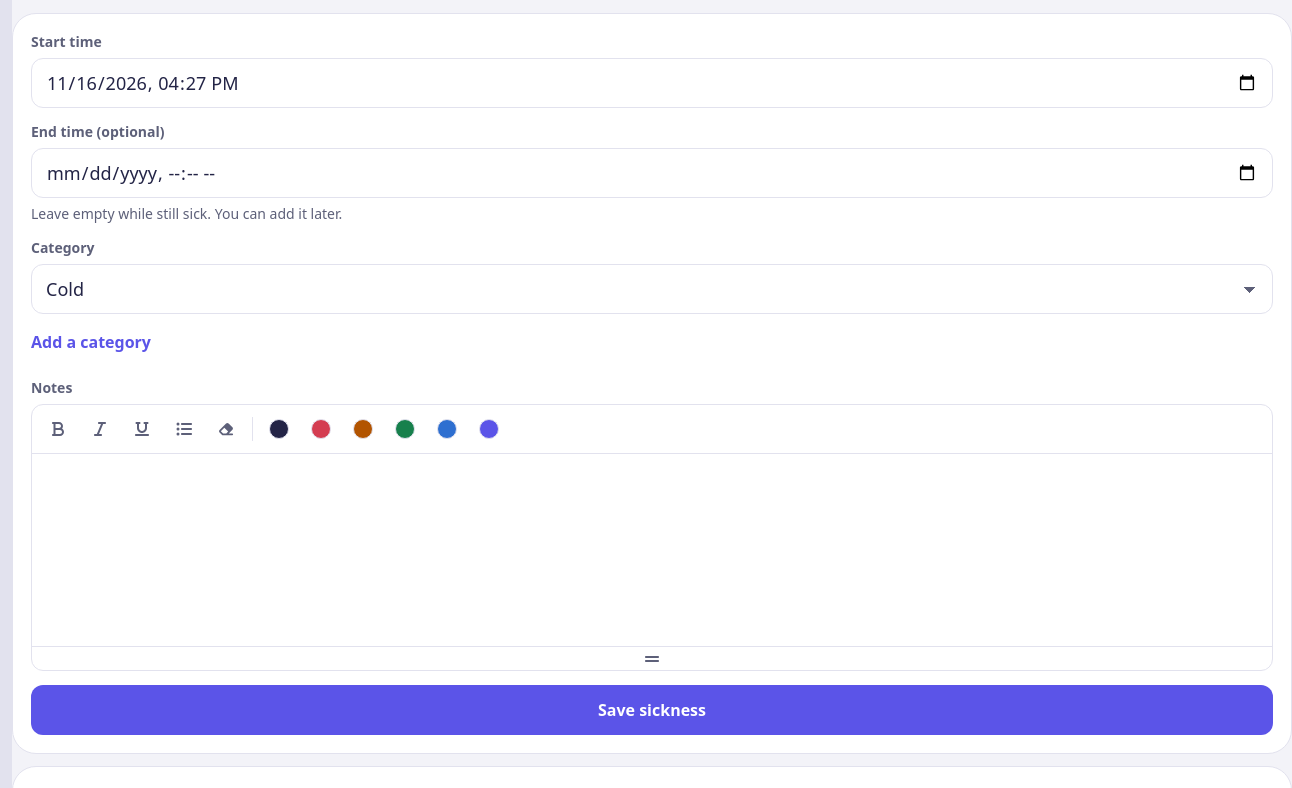
Test: SicknessLogPage › saves an ongoing sickness without an end time
Select "Fever" in the dropdown labelled "Category". click: [652, 289]
box: 31,264 -> 1273,314
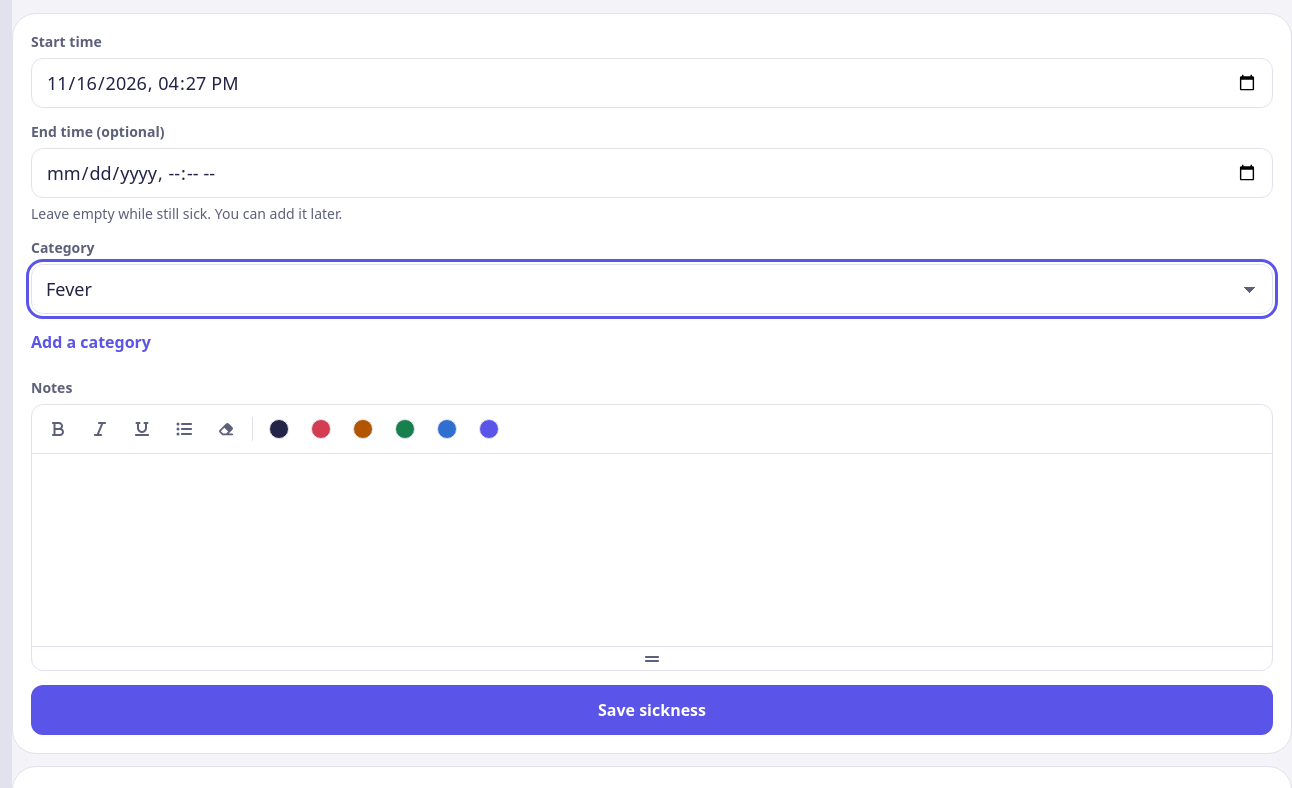
Click the button "Save sickness". click: [652, 710]
box: 31,685 -> 1273,735
(page scrolled)
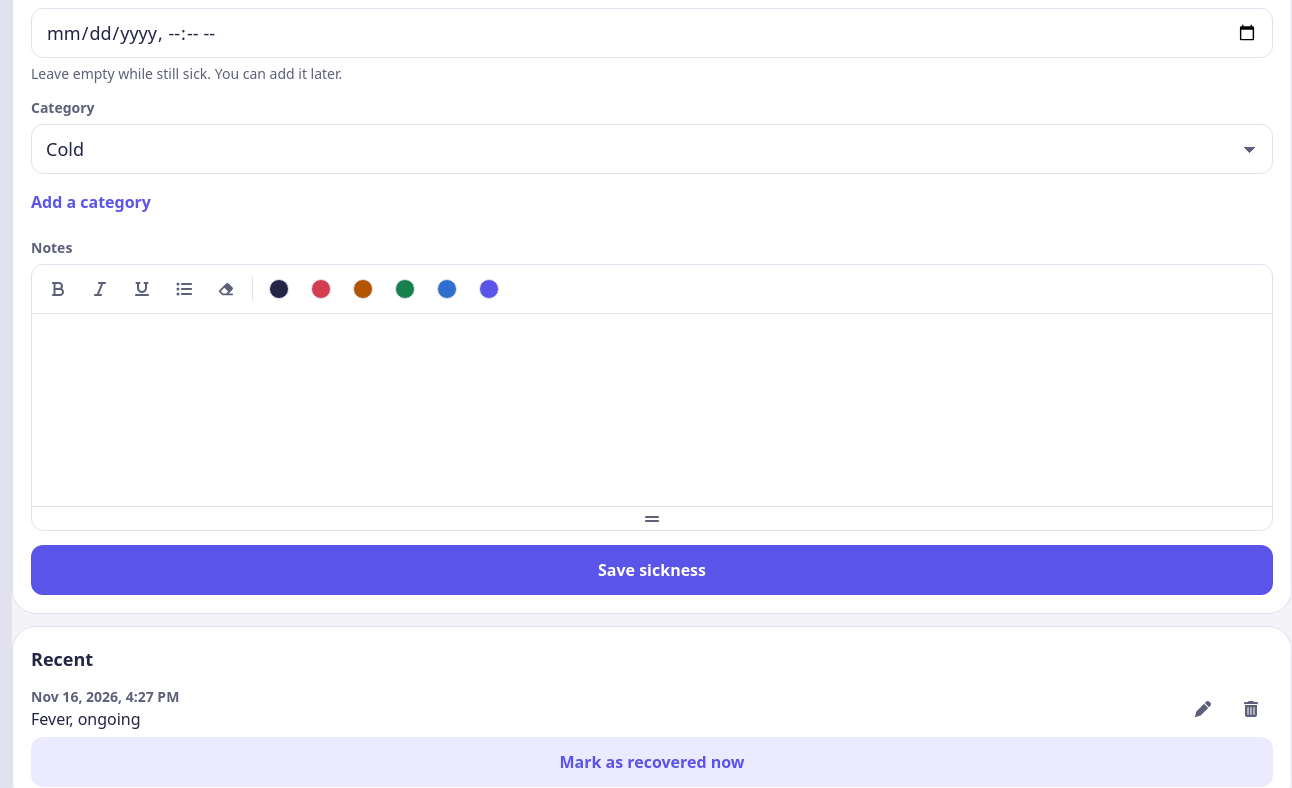
Now the text "Fever, ongoing" is shown, box 31,708 -> 141,730
